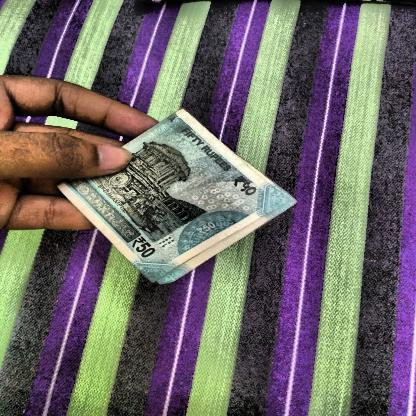Rs50: (122, 231, 164, 265)
